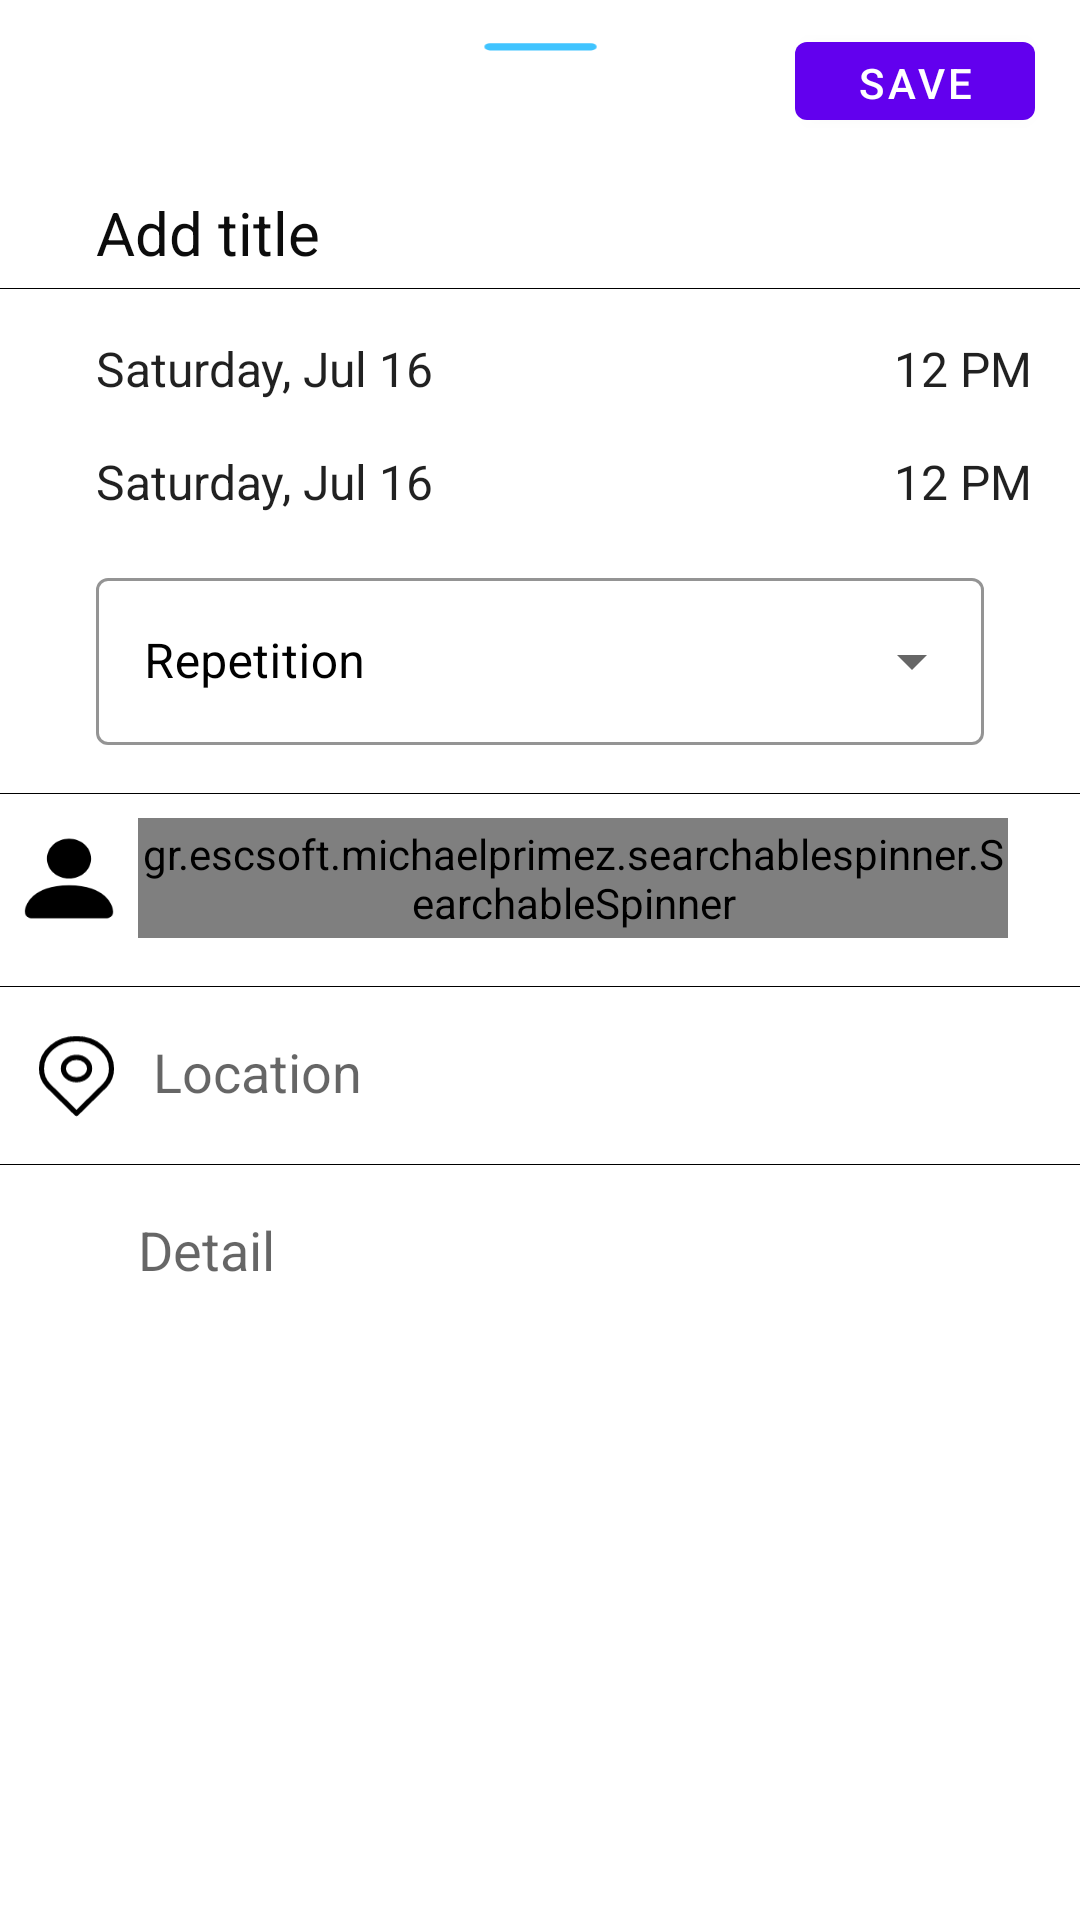

Screen size 1080px x 1920px. Icon name, then its center in pixels as (x,y):
add tutor: (69,878)
